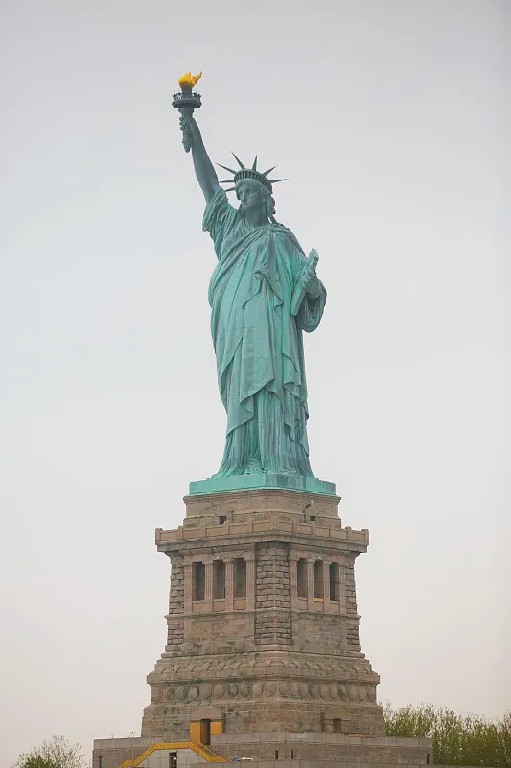SL: (140, 69, 387, 737)
